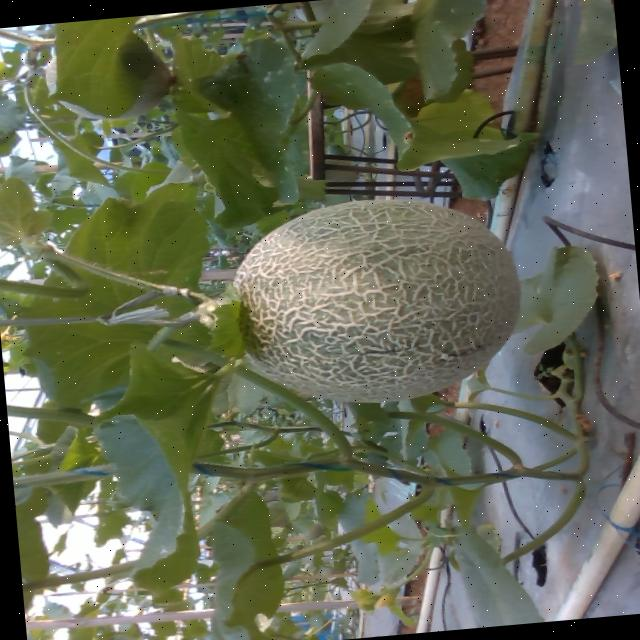melon: (233, 197, 521, 401)
